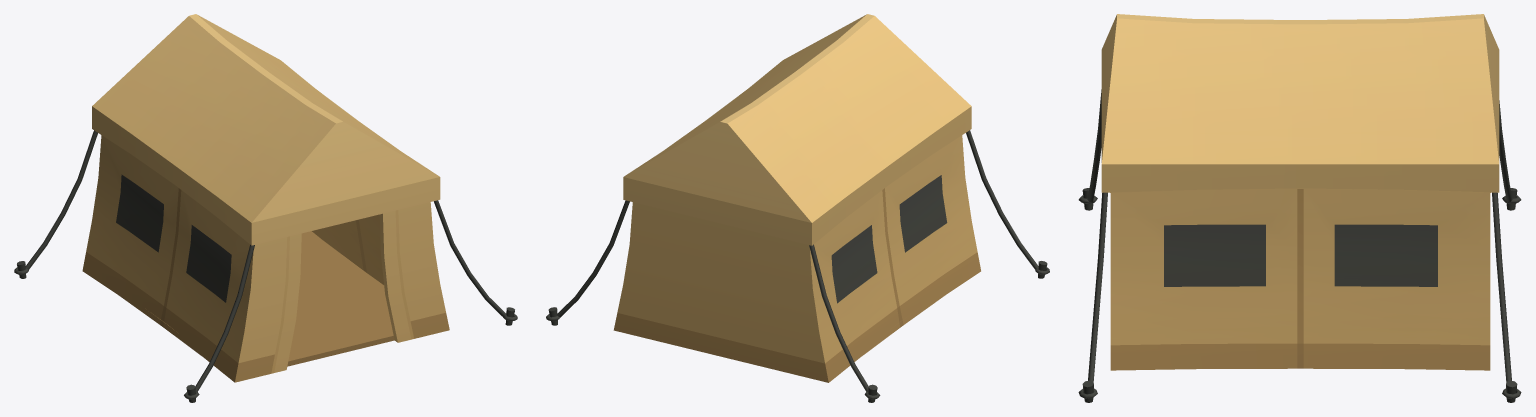
File: SM_Tent_F.fbx
3 renders of one model, left to right at view 1: azimuth 30°, elevation 25°; view 2: azimuth 150°, elevation 25°; view 3: azimuth 270°, elevation 25°, orthographic. The views are drawn at different scales.
Parts seen in each view (by area): view 1: SM_Tent_F; view 2: SM_Tent_F; view 3: SM_Tent_F.
Boxes of the visible parts, x1,y1,x2,y2 form: SM_Tent_F: (14,14,517,402); SM_Tent_F: (546,14,1049,402); SM_Tent_F: (1078,14,1521,402).
Bounding box in the file's own units: 469 × 313 × 435.
